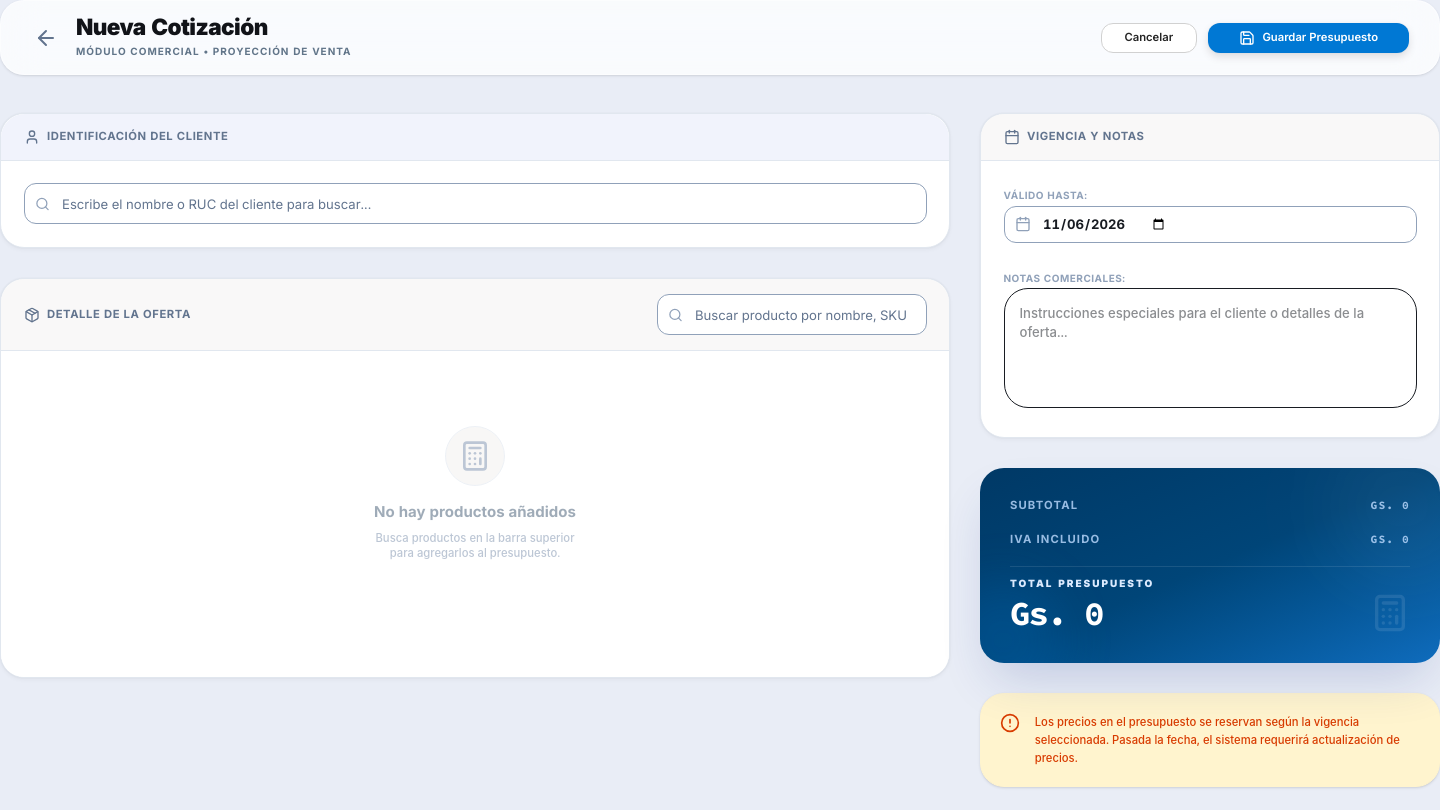
Scenario: BudgetCreate — decimales por unidad (PLAN_UNITS_V2) › box (entera): 1,5 se trunca a 1 al salir del campo
This screenshot has width=1440, height=810.
Step 1. Type "GASEOSA CAJA" into the field with placeholder "Buscar producto por nombre, SKU o variante..." → (792, 315), box [656,294,926,335]
Wait 310 ms
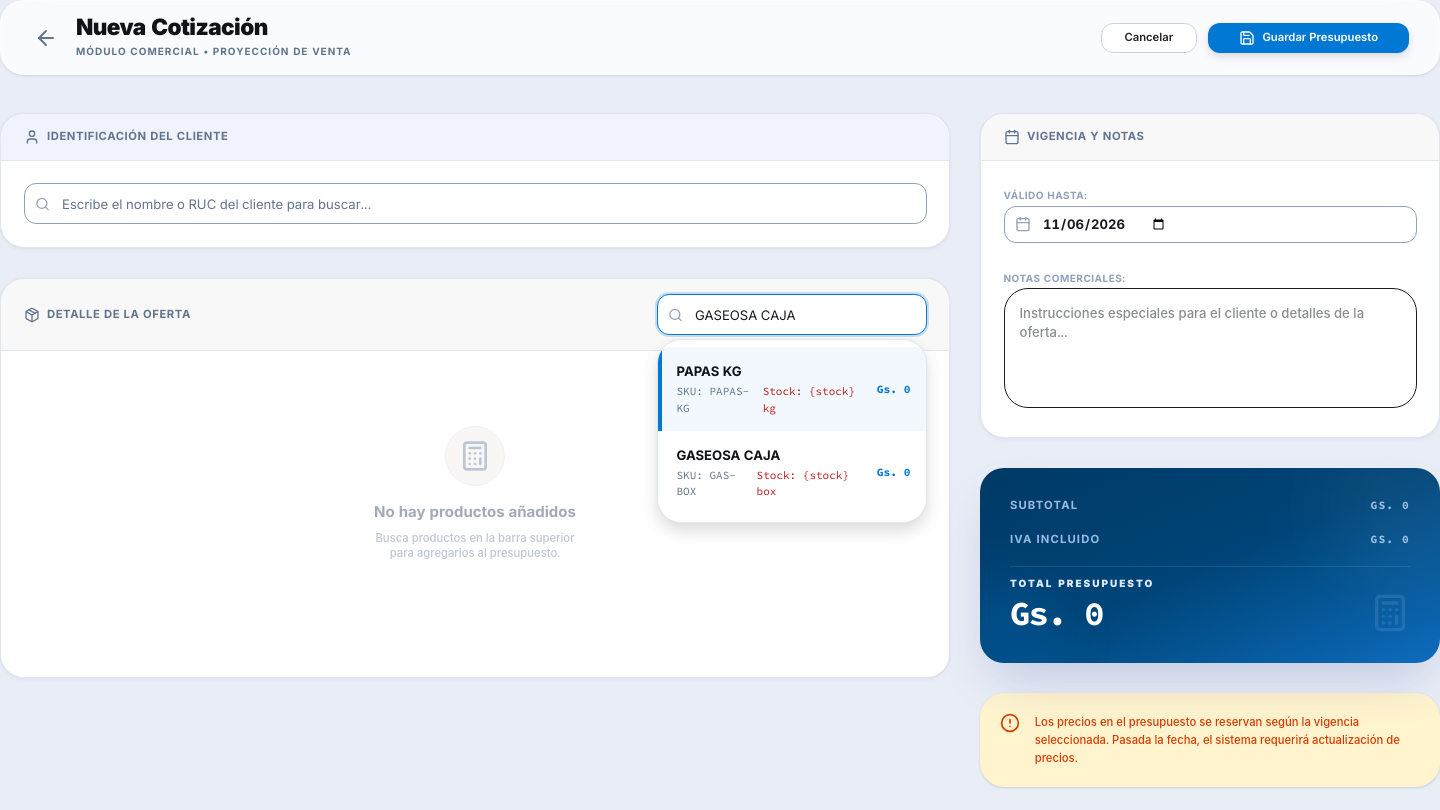
Step 2. Click the text "GASEOSA CAJA" → (728, 455), box [676,447,780,463]
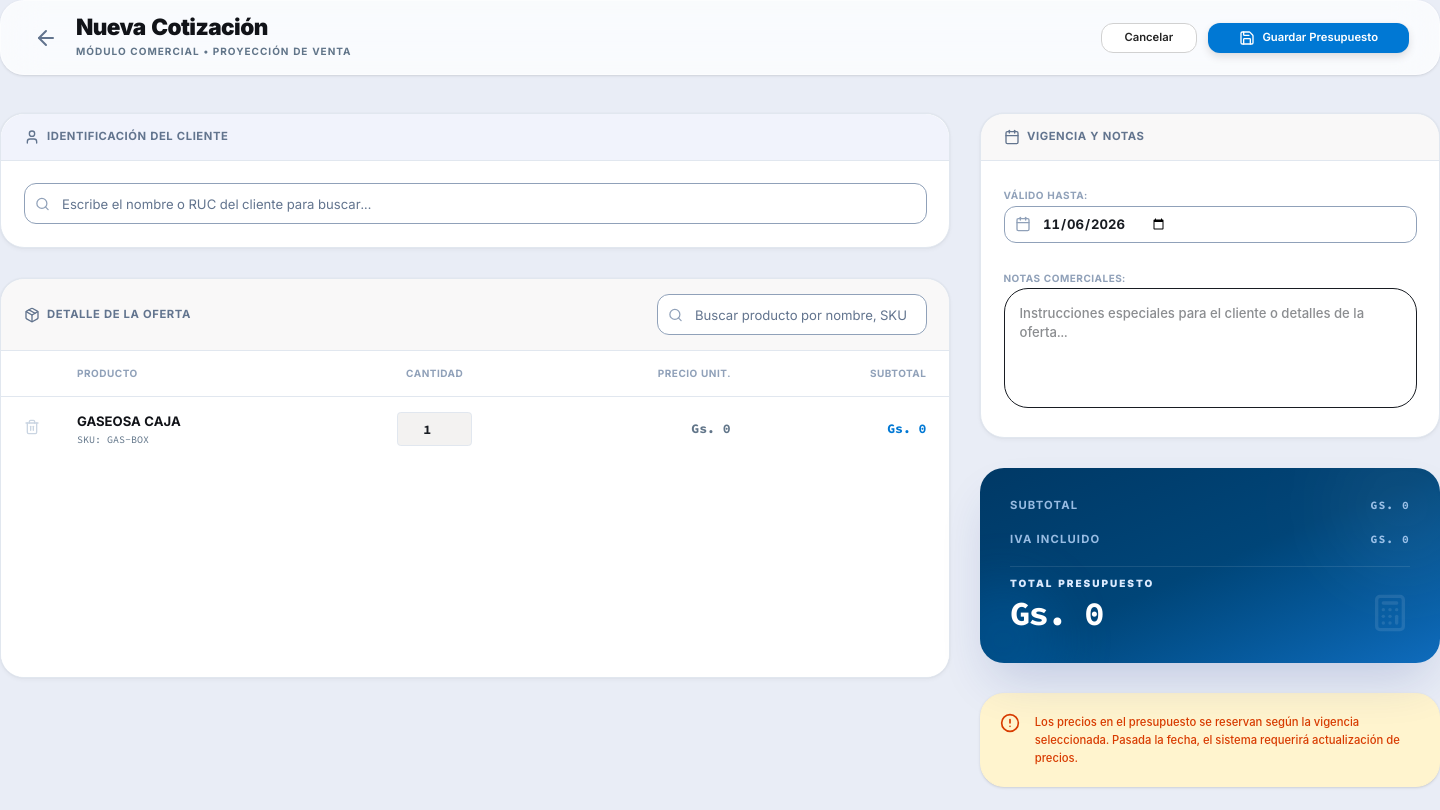
Step 3. Replace the text in the number field showing "1" with "1.5" → (435, 429), box [397,412,472,446]
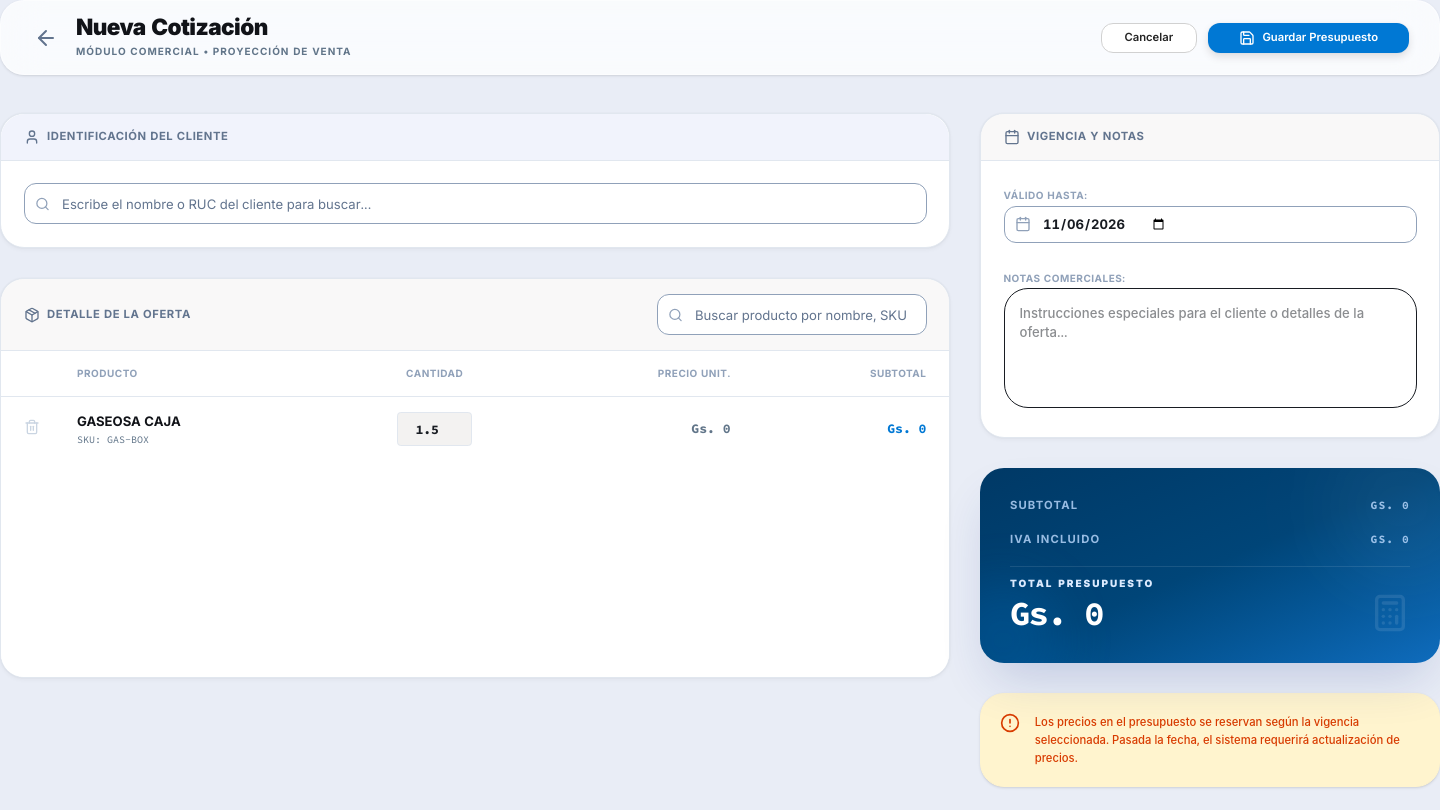
Step 4. Leave the number field showing "1", box [397,412,472,446]
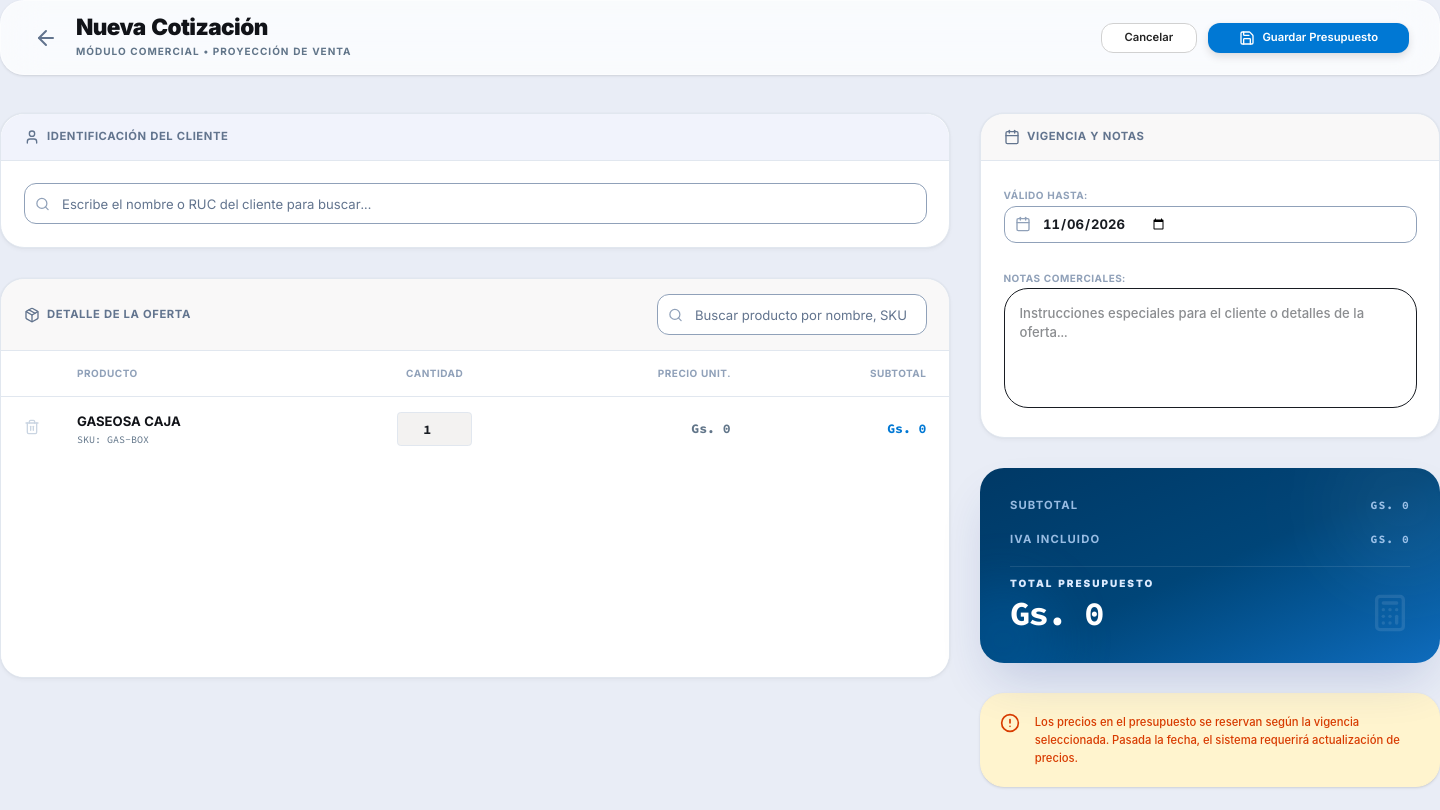
Result: the number field showing "1" holds "1" at [397,412,472,446]
